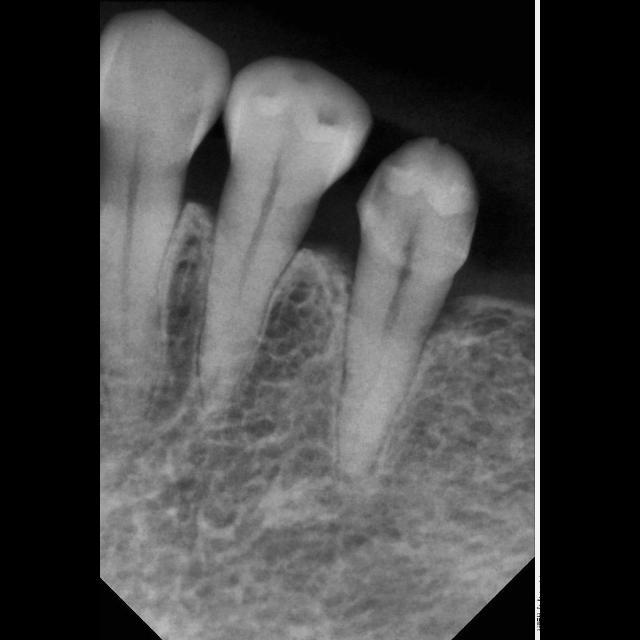teeth: (202, 59, 369, 391), (338, 138, 477, 475)
